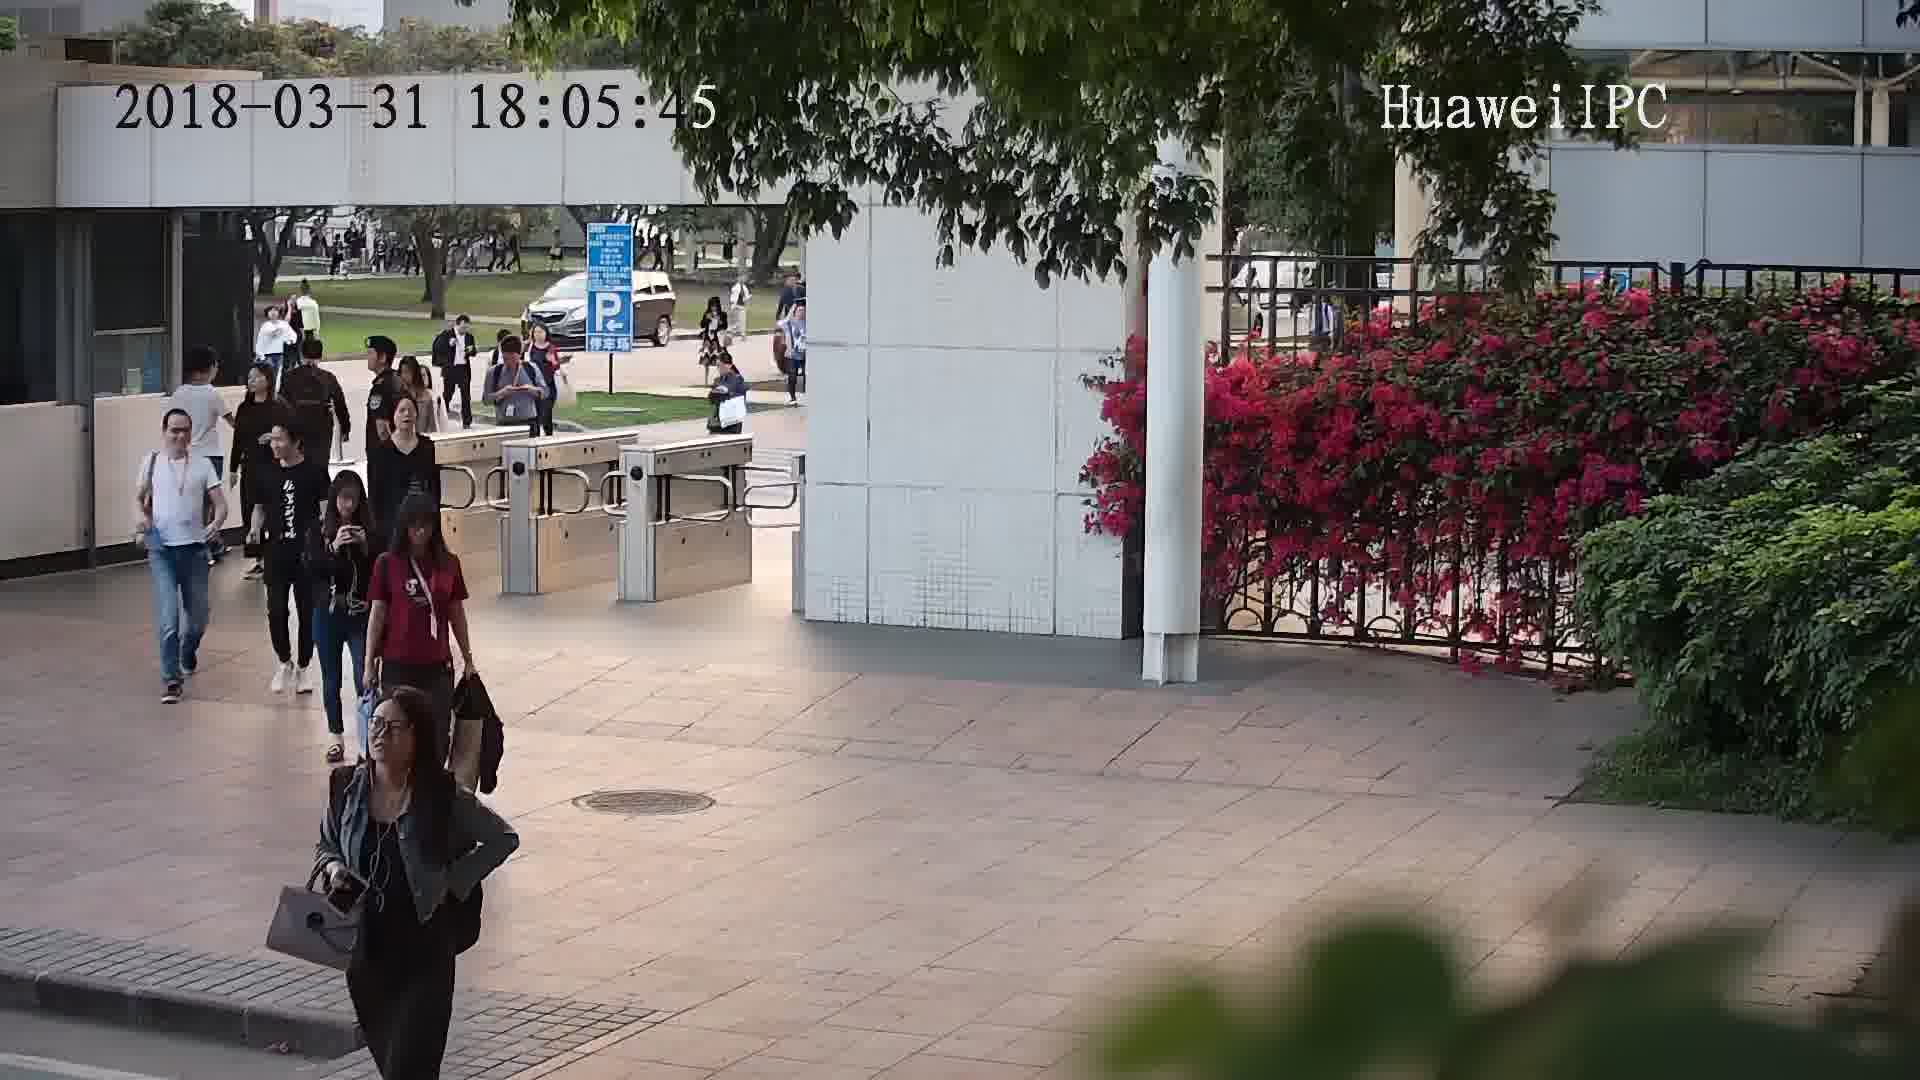face: (358, 703, 421, 766)
person: (332, 690, 473, 820), (376, 485, 465, 583), (140, 403, 216, 480), (259, 414, 331, 491), (320, 467, 375, 543), (169, 342, 226, 410), (374, 394, 434, 459), (237, 357, 290, 420), (287, 333, 343, 388), (491, 335, 540, 382), (399, 356, 442, 411), (365, 333, 404, 394), (437, 310, 476, 343), (259, 302, 292, 333), (784, 300, 811, 329), (706, 293, 728, 316), (731, 270, 751, 290)
